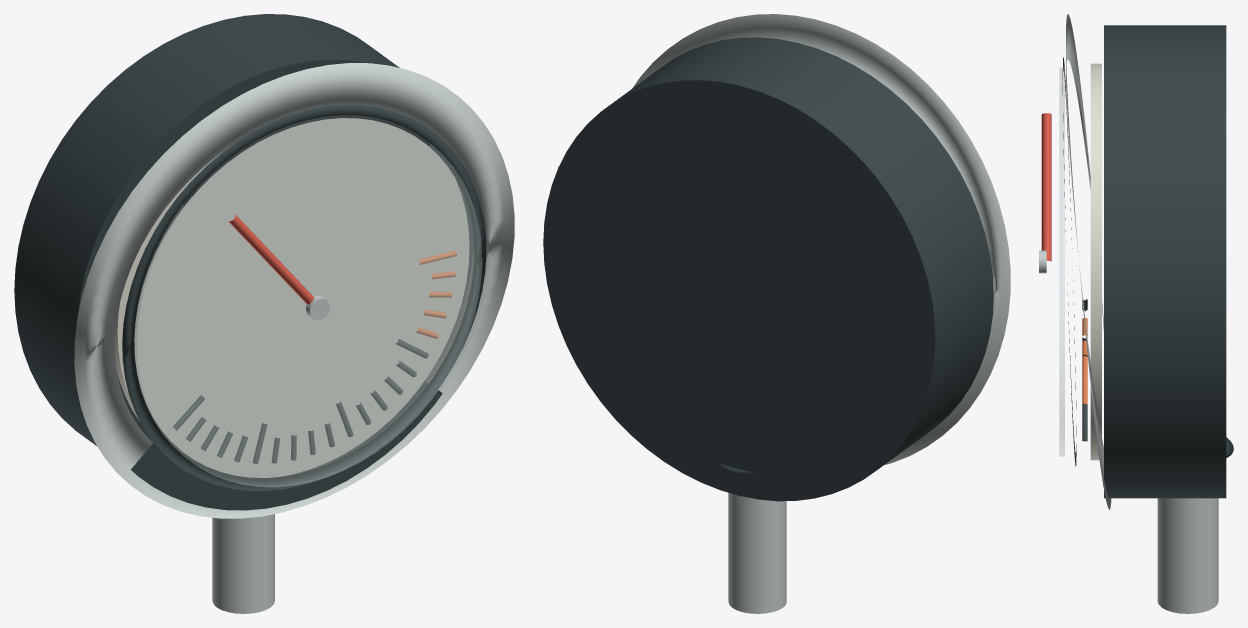
The model's file is manometer.glb.
The picture shows the model from 3 angles, left to right: view 1: azimuth 30°, elevation 25°; view 2: azimuth 150°, elevation 25°; view 3: azimuth 270°, elevation 25°; orthographic projection. The views are drawn at different scales.
Visible parts, largest first — view 1: Glass, DialFace, GaugeCase, Bezel, CoverSeal, PressureSocket, NeedleArm; view 2: GaugeCase, Bezel, PressureSocket; view 3: GaugeCase, PressureSocket, DialFace, Glass, Bezel, NeedleArm, CoverSeal.
Boxes of the visible parts, <box> form: Glass: <box>134,115,481,486</box>; DialFace: <box>115,118,469,477</box>; GaugeCase: <box>14,14,473,510</box>; Bezel: <box>74,63,514,518</box>; CoverSeal: <box>122,105,486,490</box>; PressureSocket: <box>212,514,274,613</box>; NeedleArm: <box>228,214,313,304</box>; GaugeCase: <box>543,37,993,501</box>; Bezel: <box>632,14,1010,464</box>; PressureSocket: <box>728,492,786,613</box>; GaugeCase: <box>1104,25,1226,498</box>; PressureSocket: <box>1157,498,1218,613</box>; DialFace: <box>1090,63,1101,460</box>; Glass: <box>1059,67,1064,456</box>; Bezel: <box>1066,14,1111,509</box>; NeedleArm: <box>1041,113,1051,261</box>; CoverSeal: <box>1062,57,1076,466</box>.
Size of the model in its own units: 0.13 by 0.163 by 0.051.
